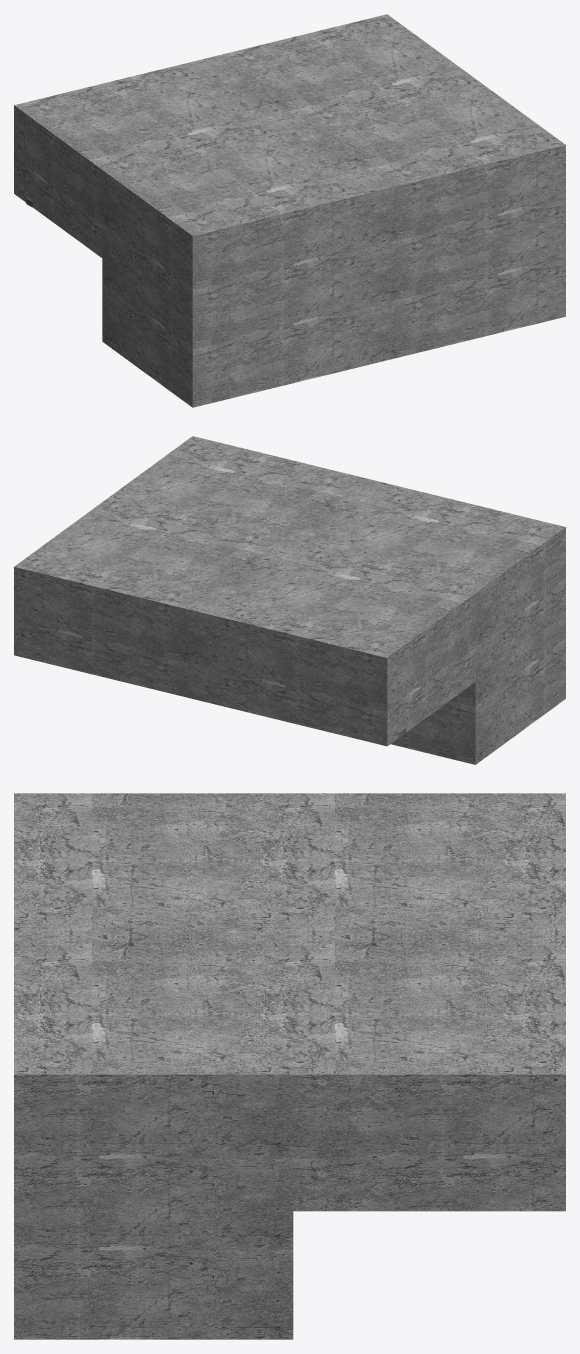
File: final_room_new_ver.glb
The picture shows the model from 3 angles, top to bottom: view 1: azimuth 30°, elevation 25°; view 2: azimuth 150°, elevation 25°; view 3: azimuth 270°, elevation 25°; orthographic projection. The views are drawn at different scales.
Visible parts, largest first — view 1: Cube; view 2: Cube; view 3: Cube.
Part boxes in pixels (<box>): Cube: <box>14,14,565,407</box>; Cube: <box>14,436,565,764</box>; Cube: <box>14,793,565,1339</box>.
Size of the model in its own units: 27.19 by 12.01 by 22.46.
14 materials, 2 textured.
